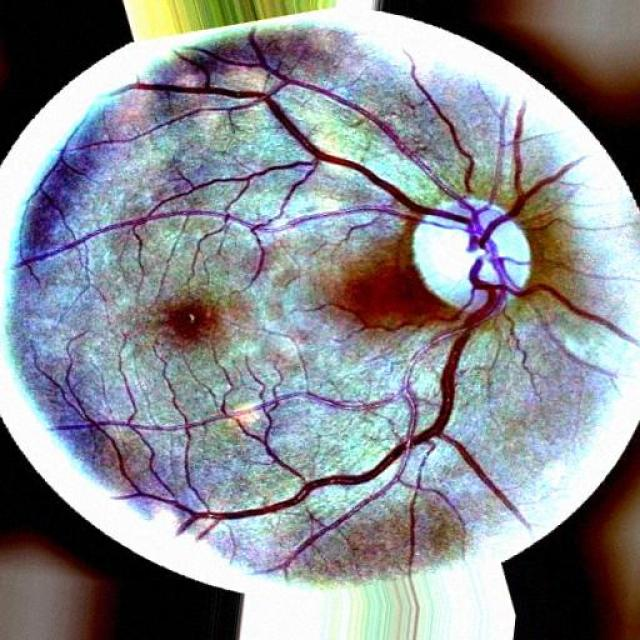Macula: (158, 298, 223, 357)
Nerves: (208, 260, 500, 524), (180, 65, 462, 241), (278, 37, 482, 229), (470, 118, 590, 252), (486, 270, 619, 382)
Optic Disk: (406, 207, 530, 328)
